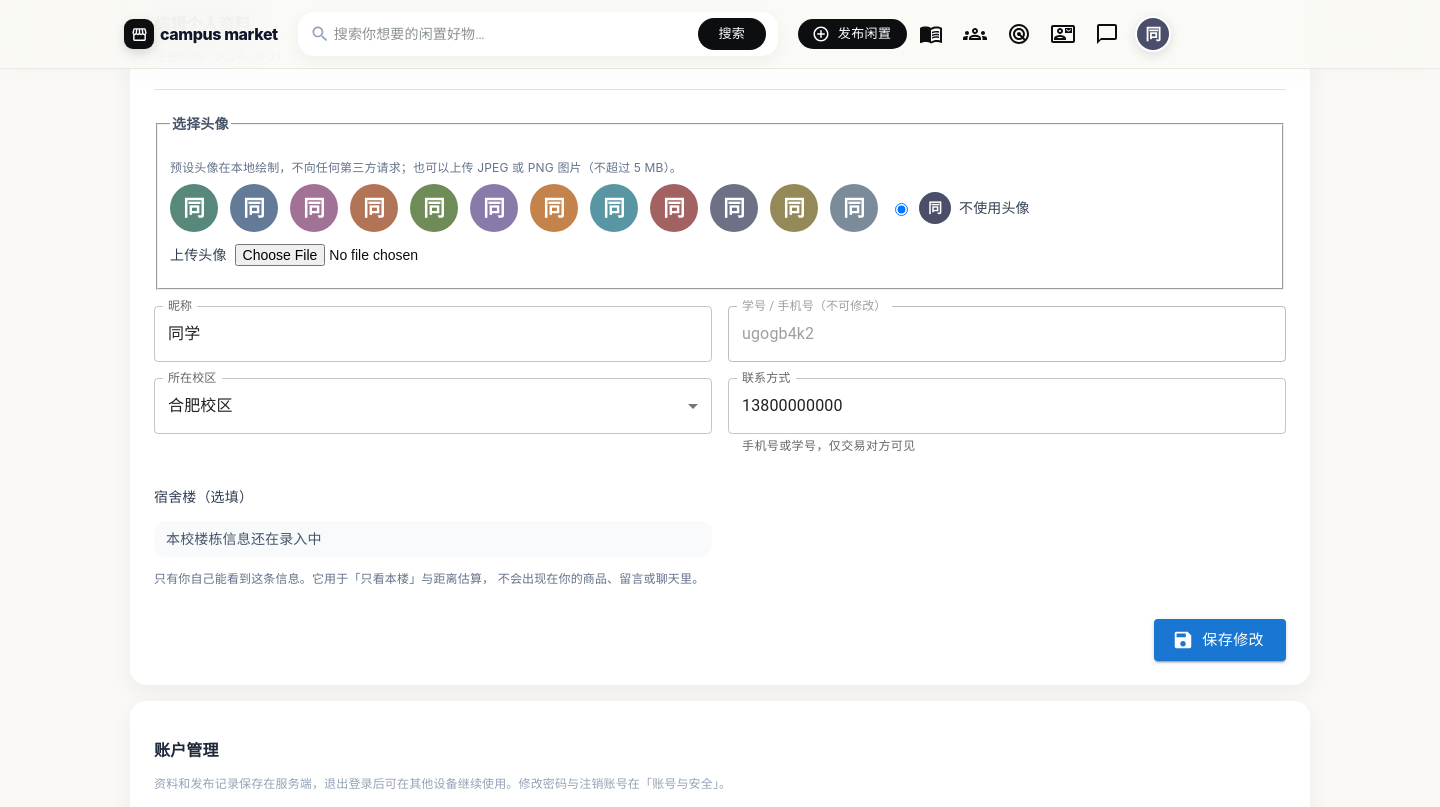
Test: 校区还没有楼栋 › 切到有楼栋的校区后楼栋选择恢复（淮南校区：东苑 · 1号楼）
The width and height of the screenshot is (1440, 807).
(page scrolled)
Expected: the text "本校楼栋信息还在录入中" is shown, [154,521,712,557]
Press the mouse on the dropdown named "所在校区" at (200, 406), box [168,396,233,415]
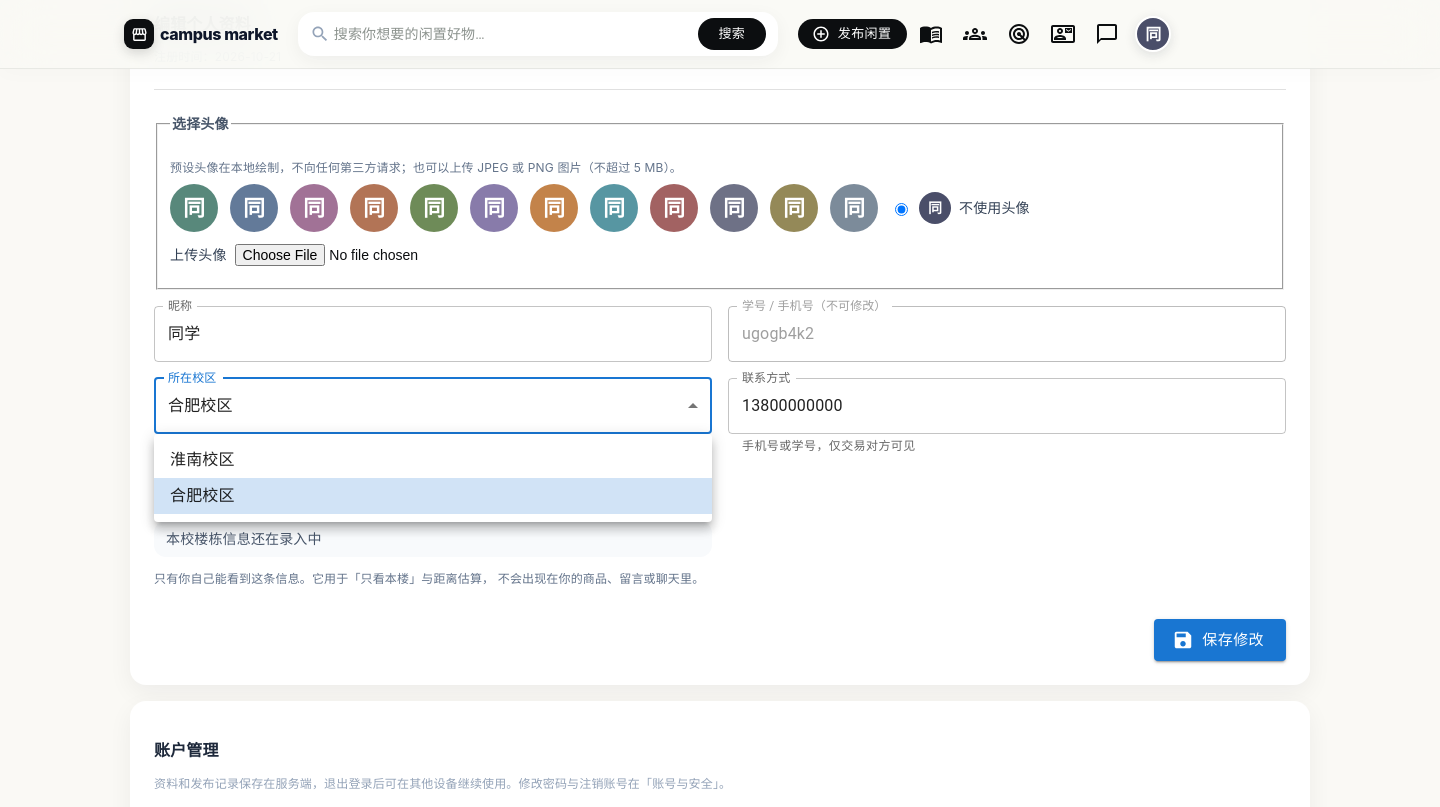
Click the option "淮南校区" at (202, 460), box [170,450,235,469]
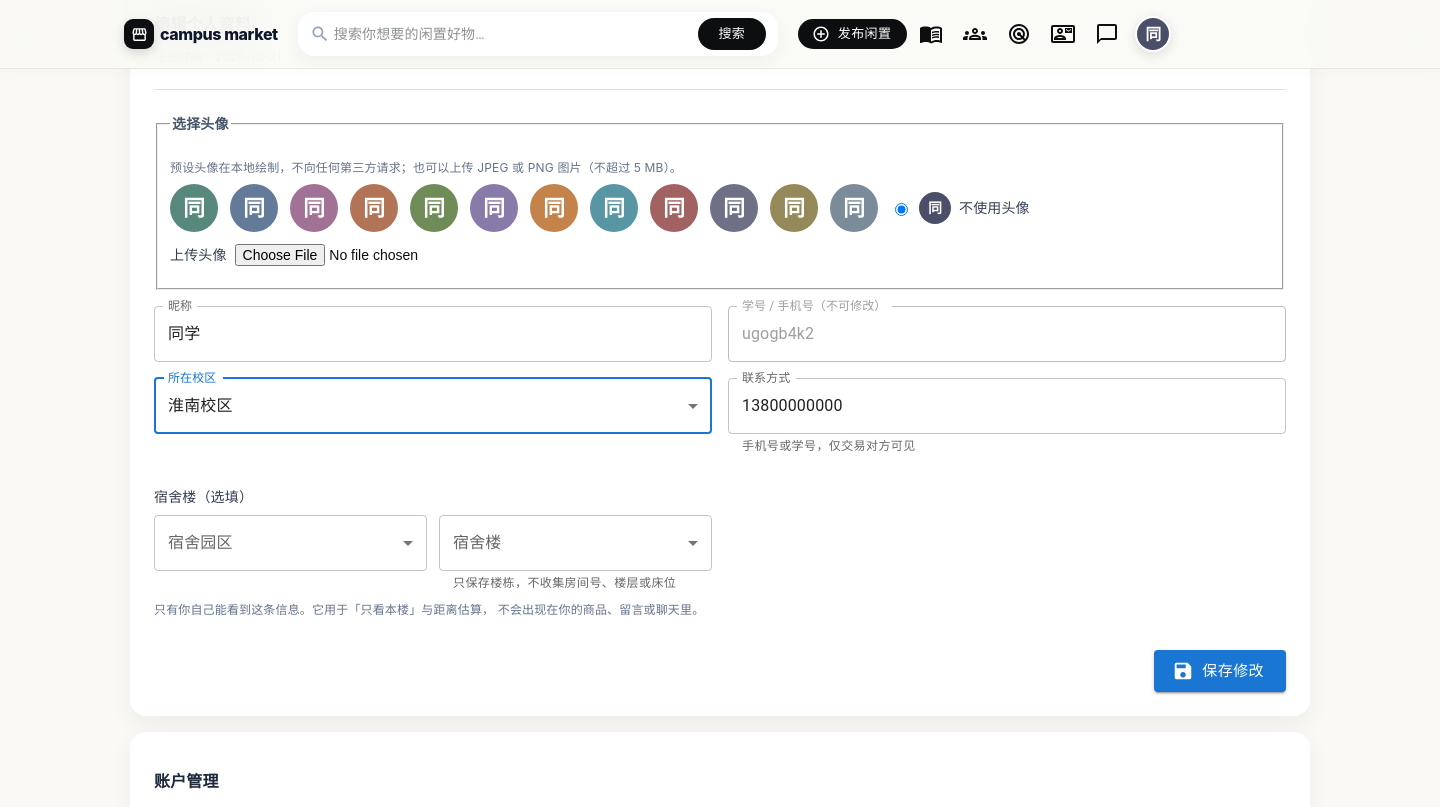
Result: the list is gone
Result: the text "本校楼栋信息还在录入中" is gone
Press the mouse on the 2nd dropdown named "宿舍楼" at (576, 543), box [439,515,712,571]
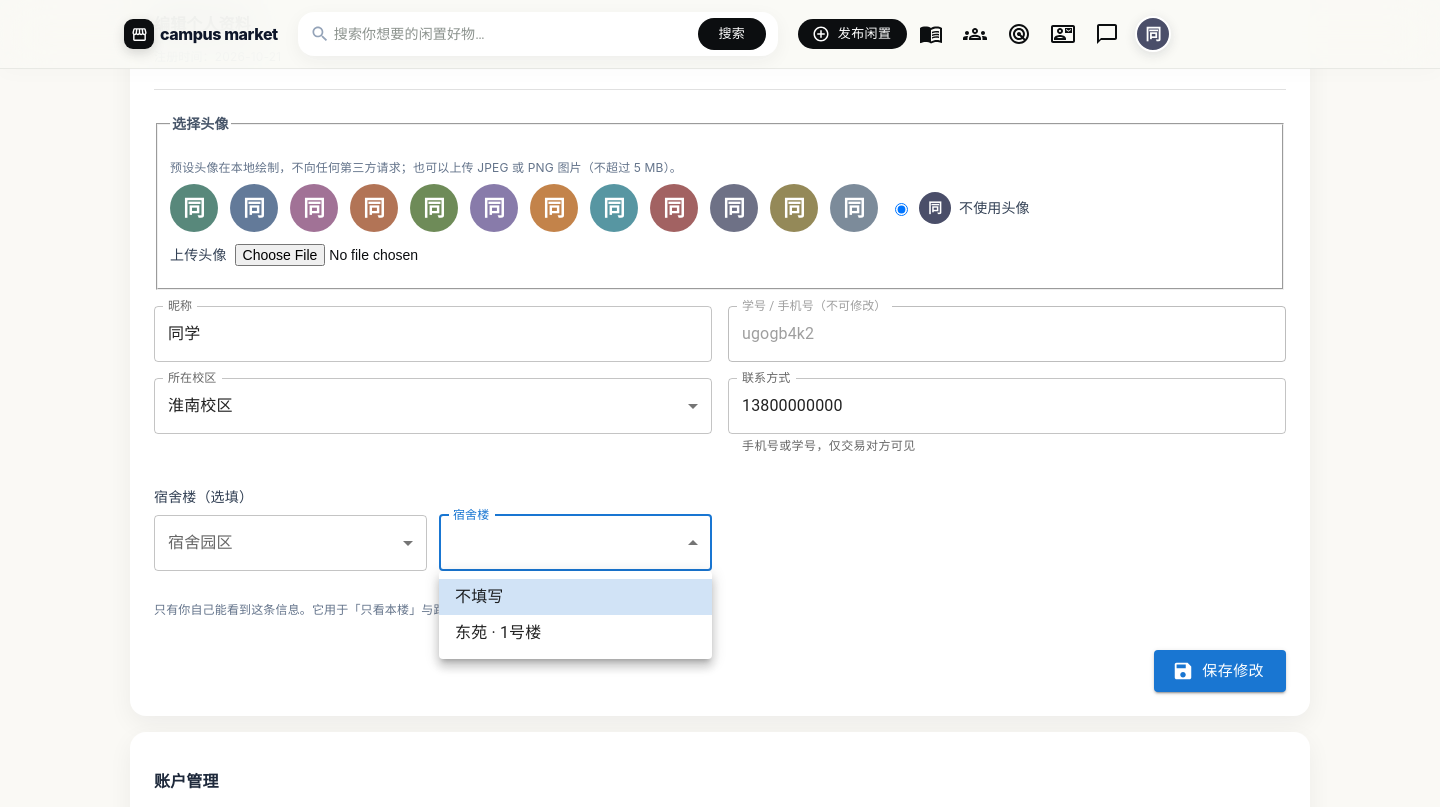
Press Escape in the list, box [439,571,712,659]
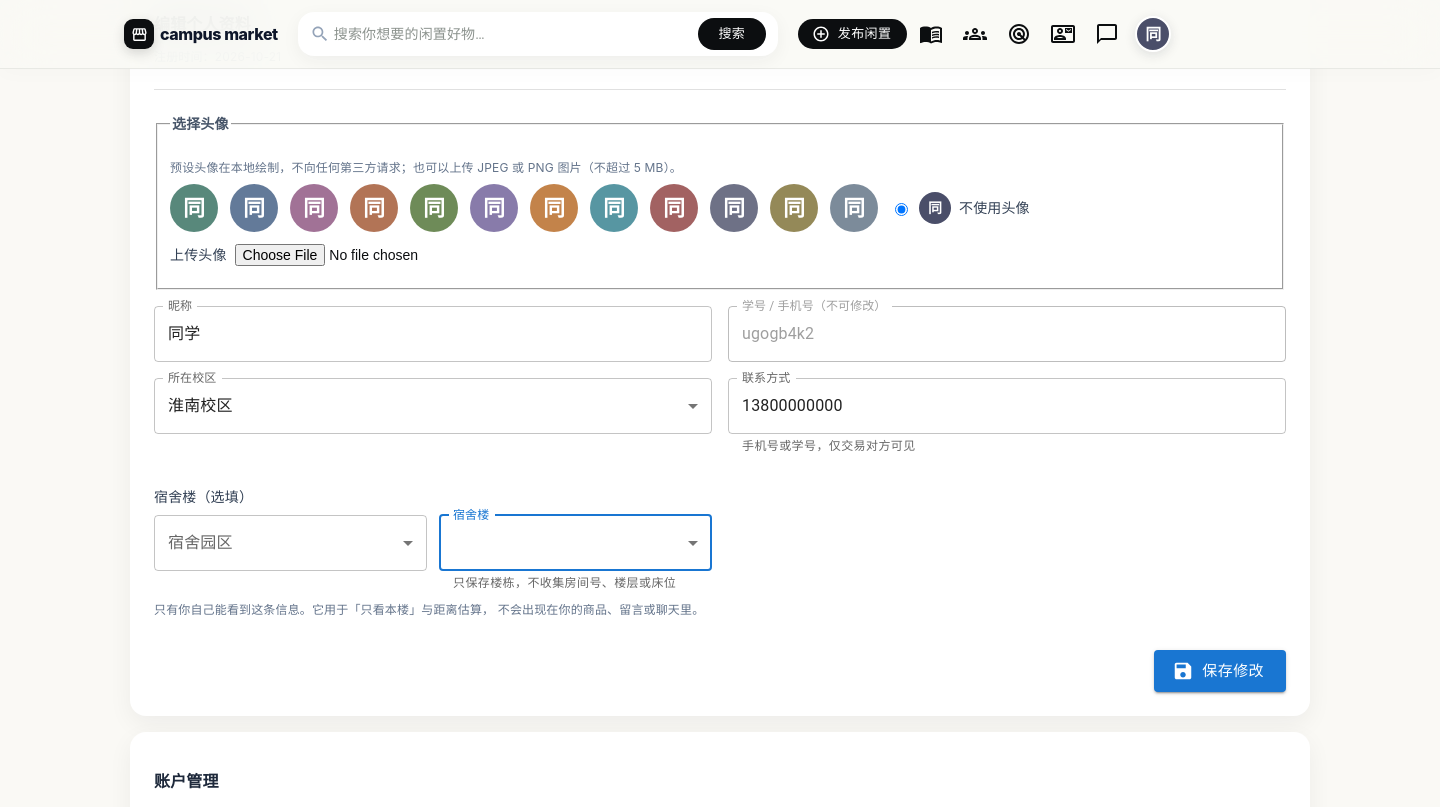
Result: the list is gone
